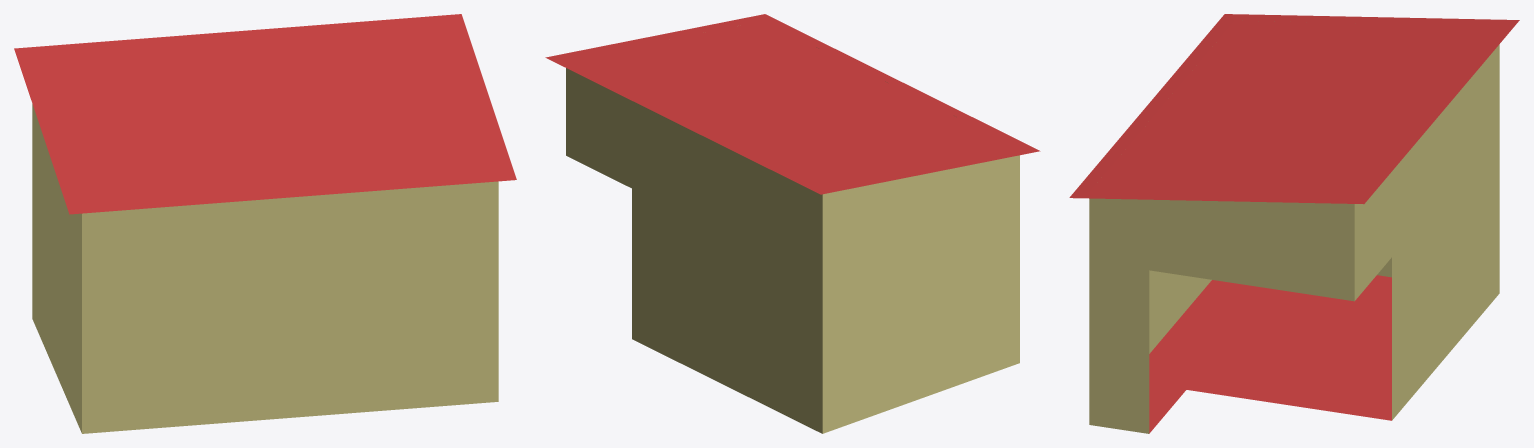
3 renders of one model, left to right at view 1: azimuth 30°, elevation 25°; view 2: azimuth 150°, elevation 25°; view 3: azimuth 270°, elevation 25°, orthographic. The views are drawn at different scales.
Bounding box in the file's own units: 16.92 × 14.1 × 9.3.
